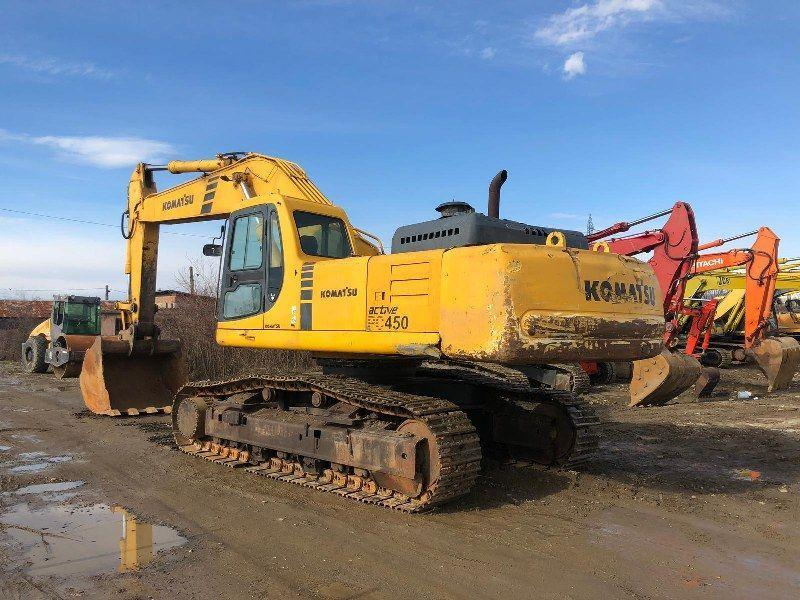shovel: (77, 147, 664, 519)
